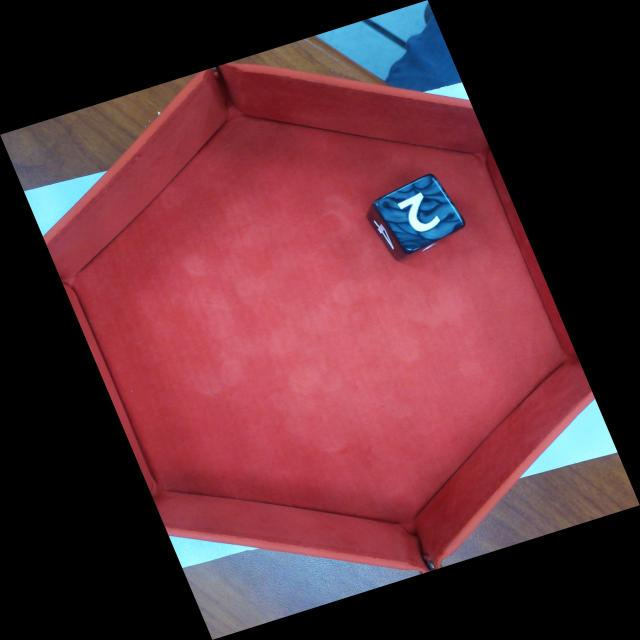dice: (377, 177, 468, 252)
